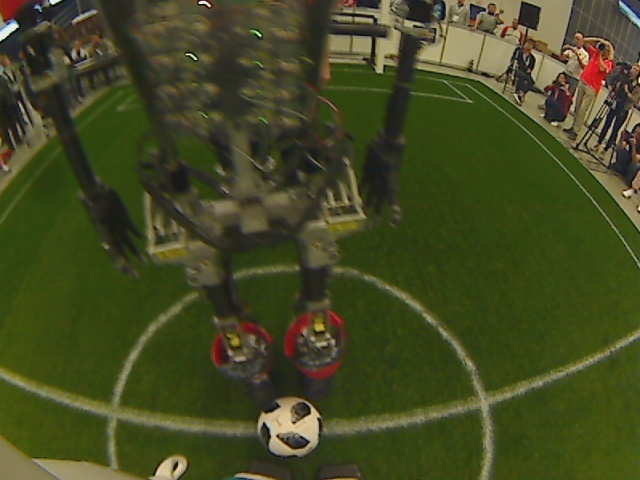ball: (254, 394, 328, 463)
